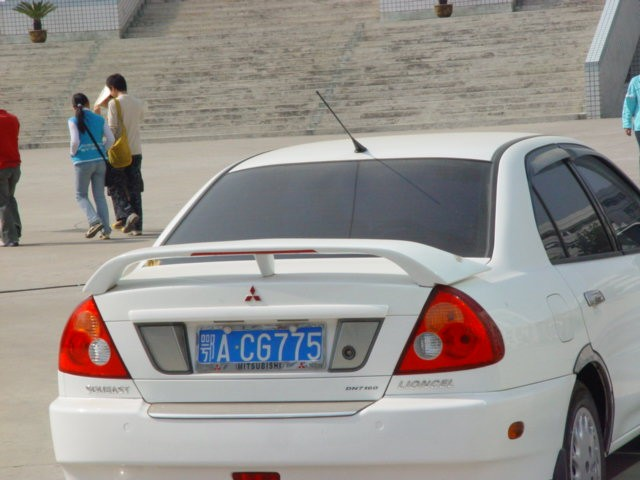plate_number: (193, 323, 324, 365)
